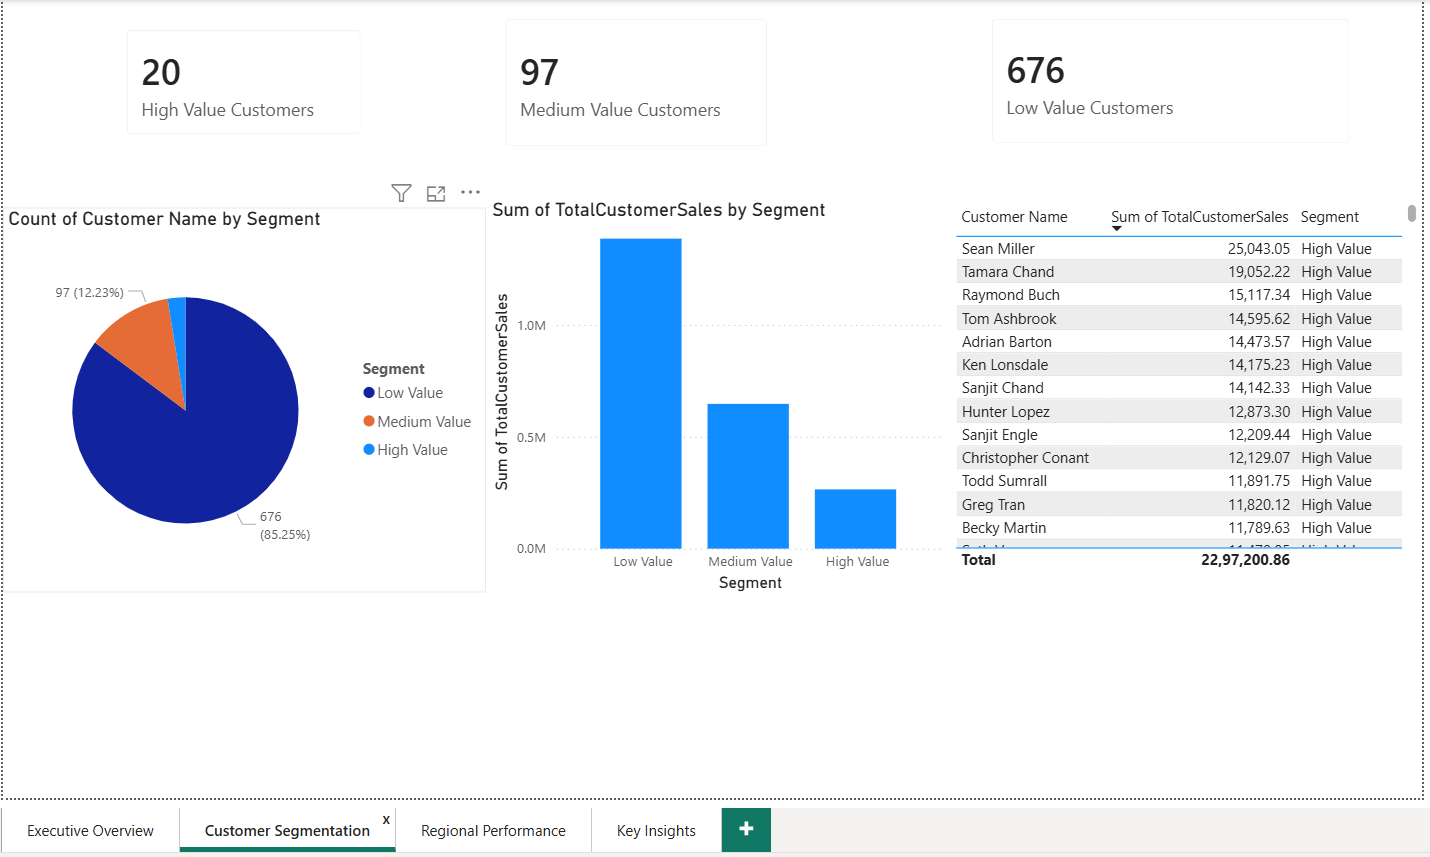

What the dashboard file says about the page in this screenshot:
{"tool":"powerbi","page":{"name":"Customer Segmentation","canvas":[1280,720],"ordinal":1},"visuals":[{"type":"pieChart","fields":{"Category":["CustomerSales.Segment"],"Y":["CountNonNull(CustomerSales.Customer Name)"]},"box":[0,186.6,436.4,347.2],"z":0},{"type":"clusteredColumnChart","fields":{"Category":["CustomerSales.Segment"],"Y":["Sum(CustomerSales.TotalCustomerSales)"]},"box":[436.4,179.8,417.2,359.5],"z":1},{"type":"tableEx","fields":{"Values":["CustomerSales.Customer Name","Sum(CustomerSales.TotalCustomerSales)","CustomerSales.Segment"]},"box":[853.5,179.8,426.8,340.3],"z":2},{"type":"cardVisual","fields":{"Data":["CustomerSales.High Value Customers"]},"box":[94.7,9.6,245.6,129],"z":3},{"type":"cardVisual","fields":{"Data":["CustomerSales.Low Value Customers"]},"box":[874.1,0,356.8,146.8],"z":4},{"type":"cardVisual","fields":{"Data":["CustomerSales.Medium Value Customers"]},"box":[436.4,0,270.3,149.6],"z":5}]}

Visuals, with their boxes on the page's 1280x720 design canvas (x1, y1, x2, y2). These are canvas units, not pixel positions in the 1430x857 screenshot, which may show the page scaled, cropped or inside an application window:
pieChart - CustomerSales.Segment x CountNonNull(CustomerSales.Customer Name): <bbox>0, 187, 436, 534</bbox>
clusteredColumnChart - CustomerSales.Segment x Sum(CustomerSales.TotalCustomerSales): <bbox>436, 180, 854, 539</bbox>
tableEx - CustomerSales.Customer Name x Sum(CustomerSales.TotalCustomerSales): <bbox>854, 180, 1280, 520</bbox>
cardVisual - CustomerSales.High Value Customers: <bbox>95, 10, 340, 139</bbox>
cardVisual - CustomerSales.Low Value Customers: <bbox>874, 0, 1231, 147</bbox>
cardVisual - CustomerSales.Medium Value Customers: <bbox>436, 0, 707, 150</bbox>
